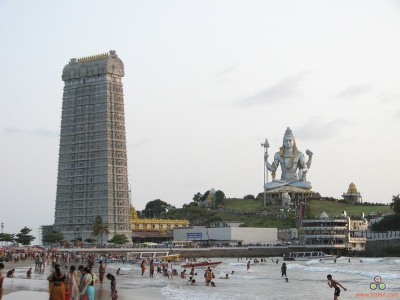gopura: (38, 49, 148, 242)
